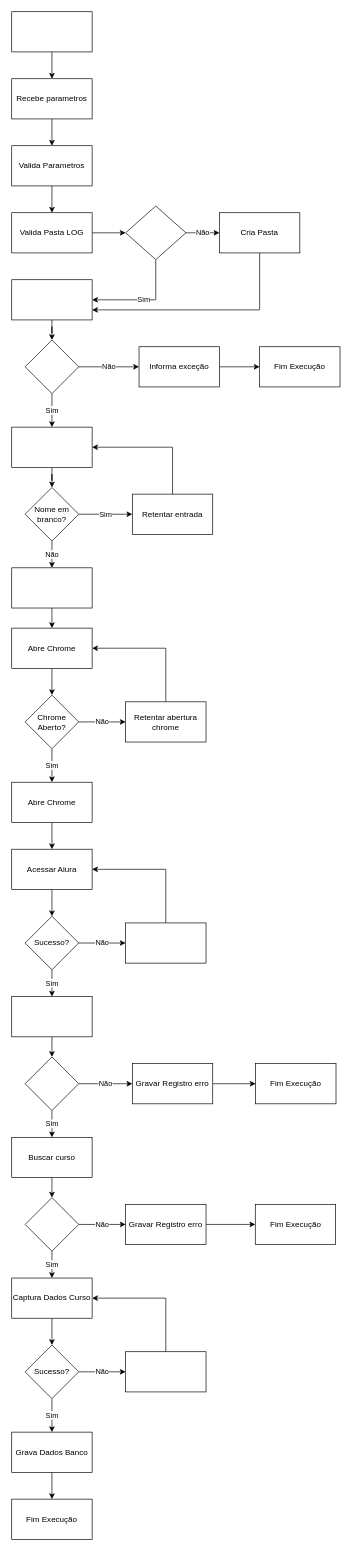
This 352x1551 diagram has some shape labels left out. The box of each missing label's shape, as (x1, y1, x2, y2) in pixels:
Campo busca Existe?: (24, 1056, 79, 1111)
Captuar nome: (11, 567, 92, 608)
Chrome Existe?: (24, 339, 79, 394)
Curso encontrado?: (24, 1197, 79, 1251)
Inicio Programa: (11, 11, 92, 52)
Pasta Existe?: (125, 205, 186, 260)
Recebe Nome Curso: (11, 426, 92, 467)
Retentar Acesso: (125, 922, 206, 963)
Retentar Captura: (125, 1351, 206, 1392)
Valida Ambiente: (11, 279, 92, 320)
Valida Site Alura: (11, 996, 92, 1037)
